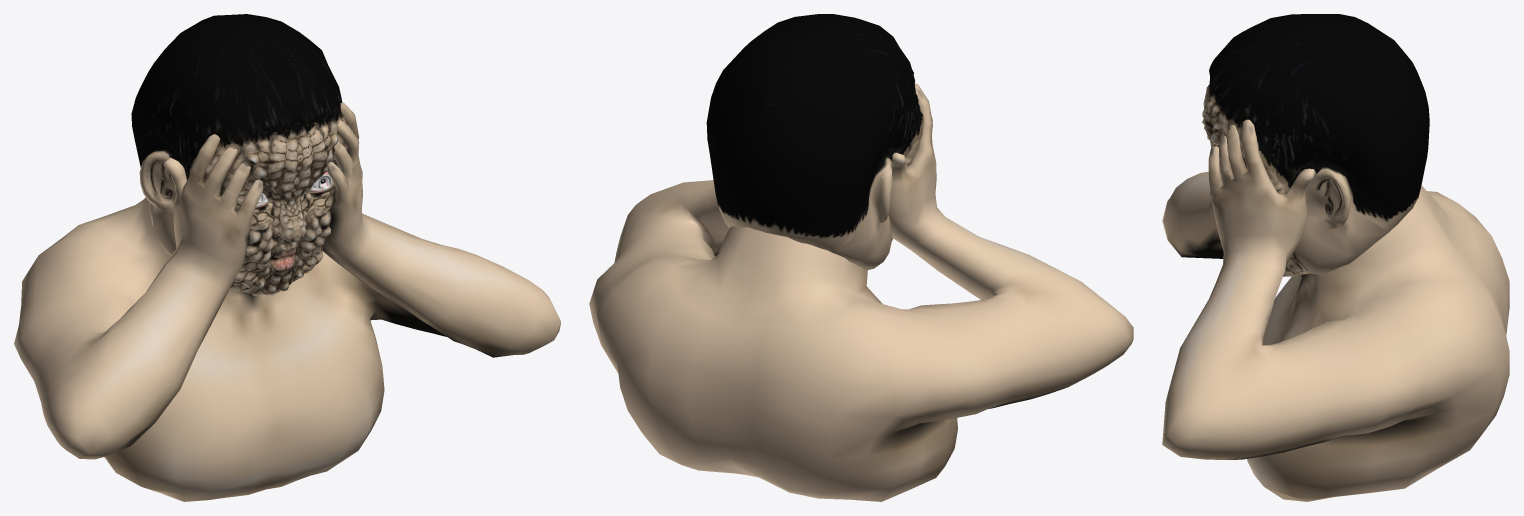
Rendered from OilBody04.FBX.
3 views of the same model, side by side, from view 1: azimuth 30°, elevation 25°; view 2: azimuth 150°, elevation 25°; view 3: azimuth 270°, elevation 25° (orthographic).
Visible parts, largest first — view 1: OilBody; view 2: OilBody; view 3: OilBody.
Part boxes in pixels (x1,y1,x2,y2): OilBody: (14, 14, 560, 501); OilBody: (589, 14, 1133, 501); OilBody: (1162, 14, 1509, 501).
Bounding box in the file's own units: 25.35 × 21.98 × 15.56.
